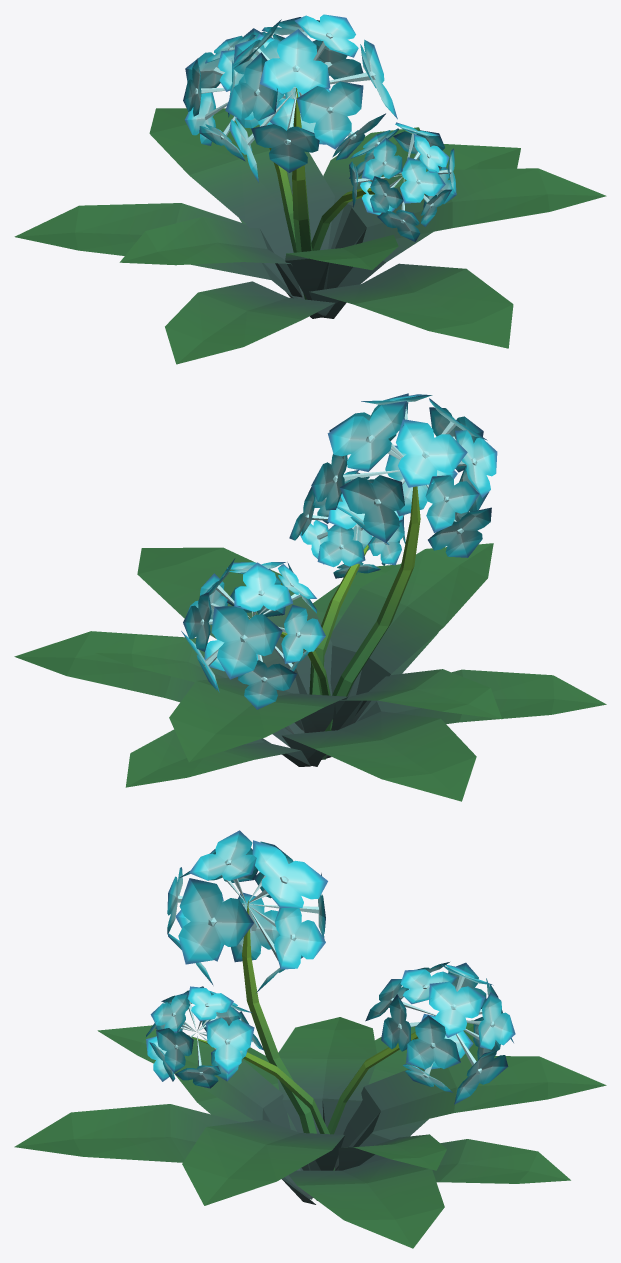
Rendered from azul-cielo-3.glb.
The picture shows the model from 3 angles, top to bottom: view 1: azimuth 30°, elevation 25°; view 2: azimuth 150°, elevation 25°; view 3: azimuth 270°, elevation 25°; orthographic projection. The views are drawn at different scales.
Parts seen in each view (by area): view 1: Flower.028; view 2: Flower.028; view 3: Flower.028.
Part boxes in pixels (x1,y1,x2,y2): Flower.028: [14, 14, 606, 364]; Flower.028: [14, 393, 606, 801]; Flower.028: [14, 830, 606, 1248].
Size of the model in its own units: 4.44 by 3.05 by 4.87.
1 material, 1 textured.
